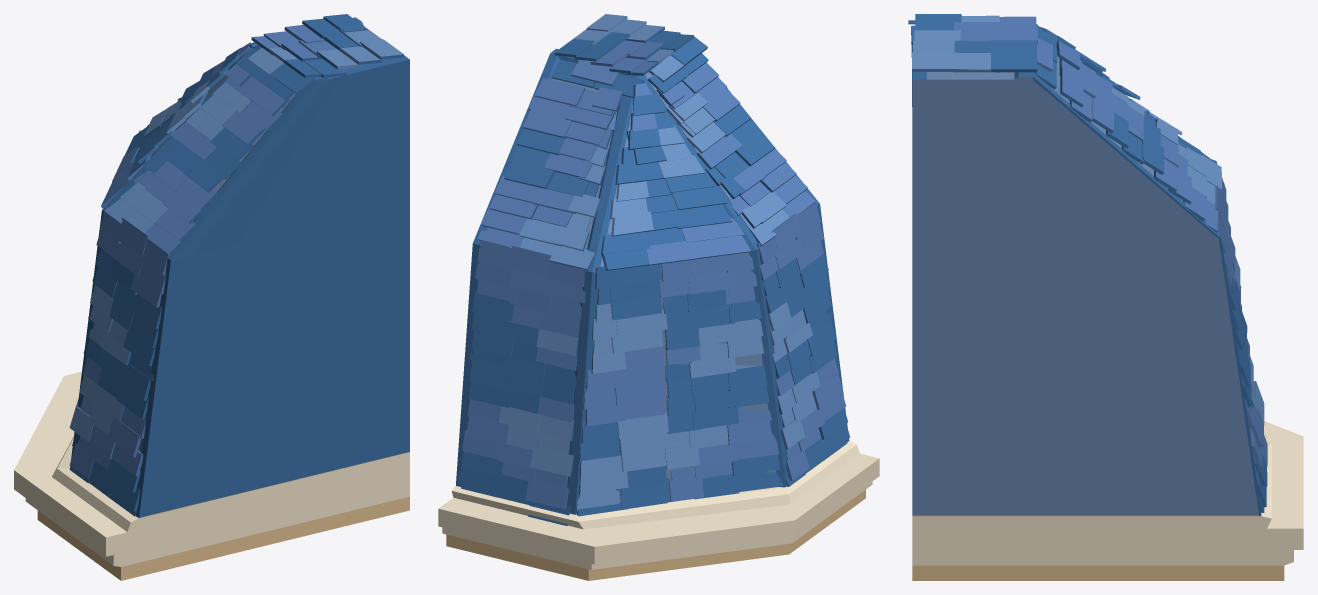
Rendered from Roof_Corner_OUTER_ROUNDED.fbx.
3 views of the same model, side by side, from view 1: azimuth 30°, elevation 25°; view 2: azimuth 150°, elevation 25°; view 3: azimuth 270°, elevation 25° (orthographic). The views are drawn at different scales.
Visible parts, largest first — view 1: Roof_Corner_OUTER_ROUNDED; view 2: Roof_Corner_OUTER_ROUNDED; view 3: Roof_Corner_OUTER_ROUNDED.
Part boxes in pixels (x1=…): Roof_Corner_OUTER_ROUNDED: x1=14, y1=14, x2=409, y2=580; Roof_Corner_OUTER_ROUNDED: x1=438, y1=14, x2=879, y2=580; Roof_Corner_OUTER_ROUNDED: x1=908, y1=14, x2=1303, y2=580.
Size of the model in its own units: 210 by 213 by 305.
